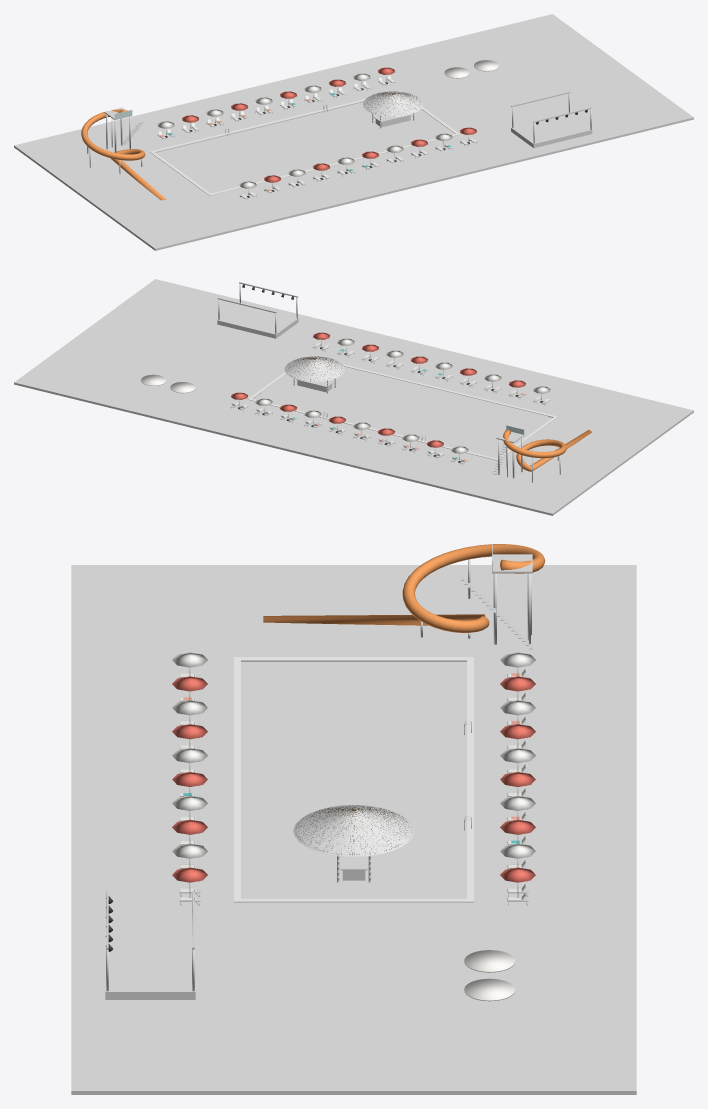
Rendered from PoolArea.fbx.
The picture shows the model from 3 angles, top to bottom: view 1: azimuth 30°, elevation 25°; view 2: azimuth 150°, elevation 25°; view 3: azimuth 270°, elevation 25°; orthographic projection. The views are drawn at different scales.
Visible parts, largest first — view 1: PoolArea_LOD0; view 2: PoolArea_LOD0; view 3: PoolArea_LOD0.
Part boxes in pixels (<box>): PoolArea_LOD0: <box>14,14,693,250</box>; PoolArea_LOD0: <box>14,279,693,515</box>; PoolArea_LOD0: <box>71,544,636,1094</box>.
Size of what is drawn, in the model's own units: 110 by 10.1 by 50.
